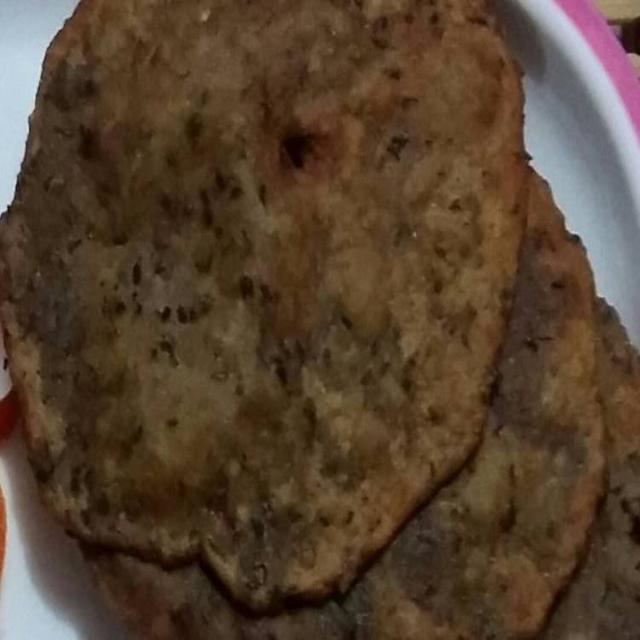Wet Waste: (0, 0, 529, 602)
